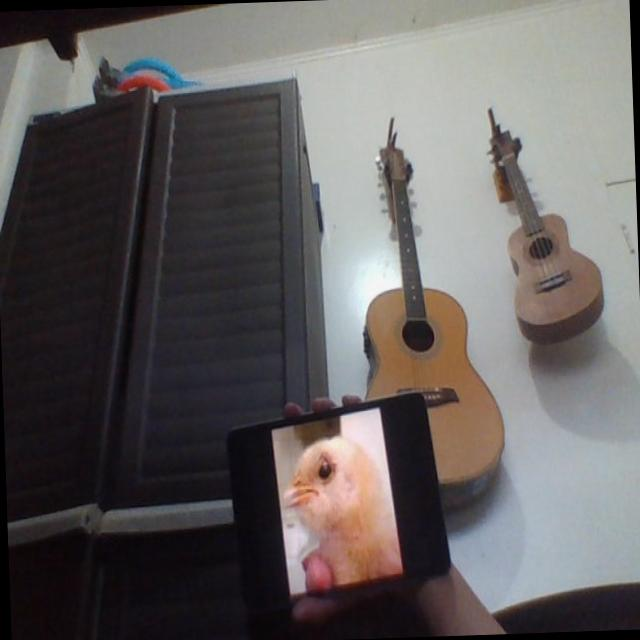Sick: (283, 433, 404, 590)
